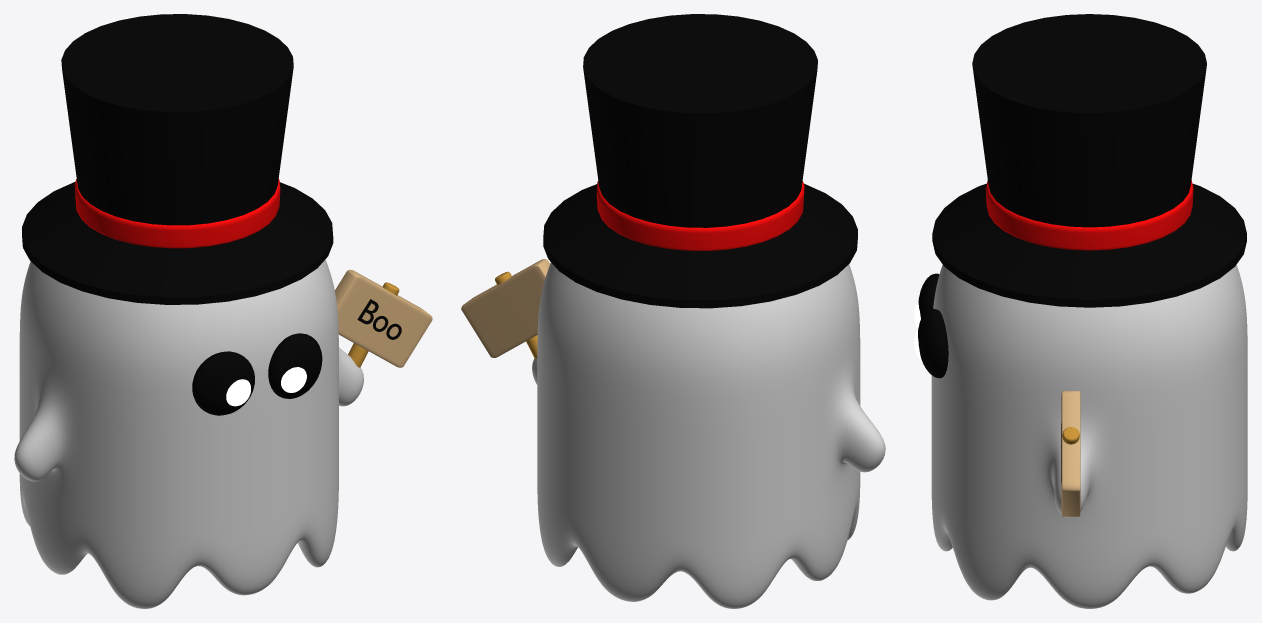
Rendered from cute_ghost.glb.
3 renders of one model, left to right at view 1: azimuth 30°, elevation 25°; view 2: azimuth 150°, elevation 25°; view 3: azimuth 270°, elevation 25°, orthographic.
Parts seen in each view (by area): view 1: Cube, Cylinder.001, Cube.001, Cylinder.002, Sphere.001, Sphere.002; view 2: Cube, Cylinder.001, Cylinder.002, Cube.001; view 3: Cube, Cylinder.001, Cylinder.002, Cube.001, Sphere.002, Sphere.001.
Part boxes in pixels (x1,y1,x2,y2): Cube: [14, 259, 363, 608]; Cylinder.001: [22, 14, 333, 304]; Cube.001: [335, 269, 432, 367]; Cylinder.002: [74, 179, 280, 248]; Sphere.001: [192, 351, 254, 415]; Sphere.002: [268, 333, 322, 398]; Cube: [532, 262, 885, 608]; Cylinder.001: [543, 14, 857, 308]; Cylinder.002: [596, 181, 804, 250]; Cube.001: [461, 259, 549, 357]; Cube: [931, 265, 1247, 608]; Cylinder.001: [932, 14, 1246, 307]; Cylinder.002: [985, 180, 1193, 250]; Cube.001: [1061, 391, 1080, 516]; Sphere.002: [918, 309, 948, 378]; Sphere.001: [918, 273, 939, 318].
Size of the model in its own units: 2.54 by 2.85 by 1.76.
